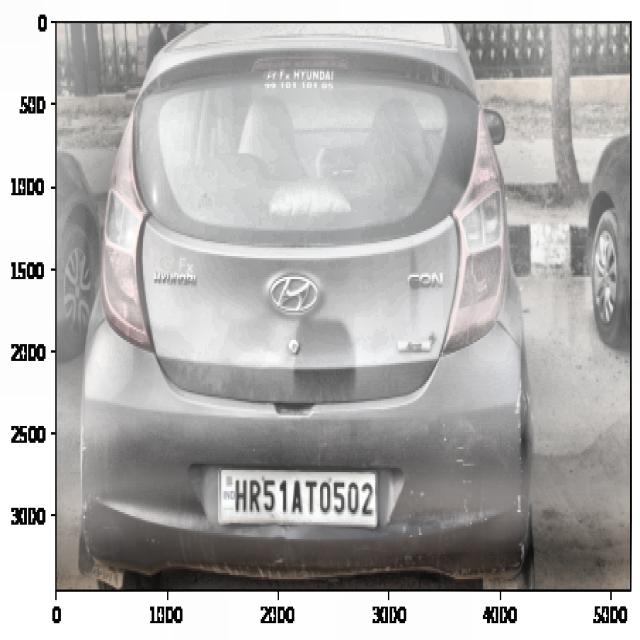license_plate: (231, 468, 376, 524)
